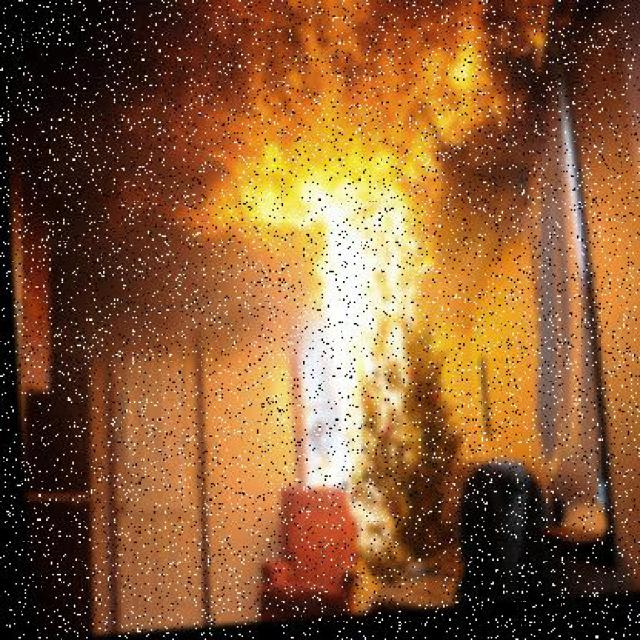fire: (99, 1, 593, 532)
